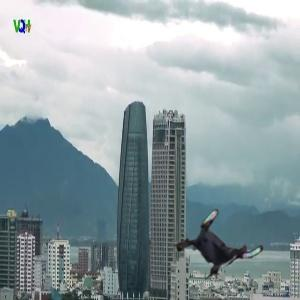drone: (178, 208, 259, 289)
